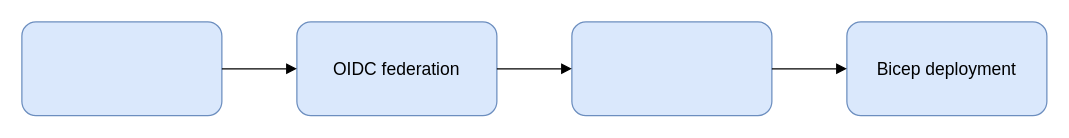
Image size: 1069x138. Some labels were removed from this diagram. The box of each missing label's shape, as (x1, y1, x2, y2) in pixels:
Azure ARM: (571, 21, 772, 116)
GitHub Actions: (21, 21, 222, 116)
